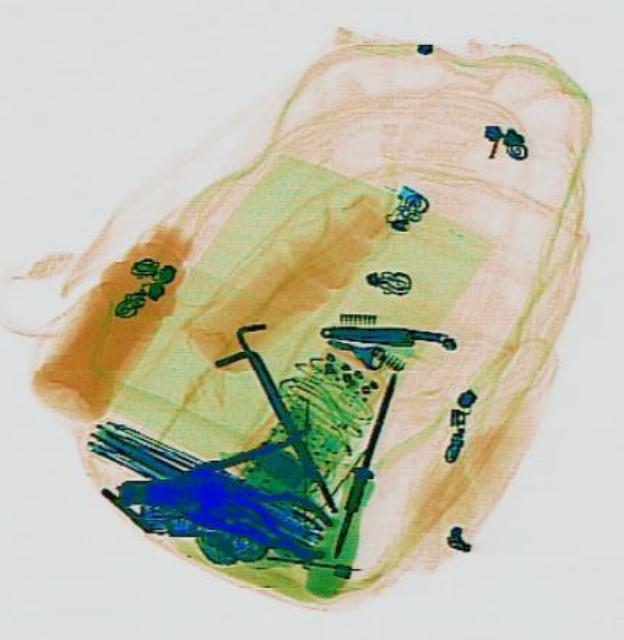Pliers: (209, 464, 343, 564)
